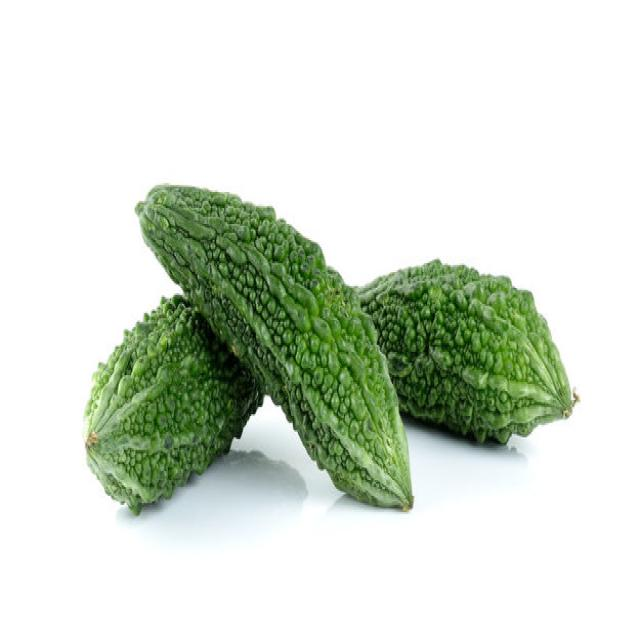Bitter_Gourd: (84, 180, 579, 516)
